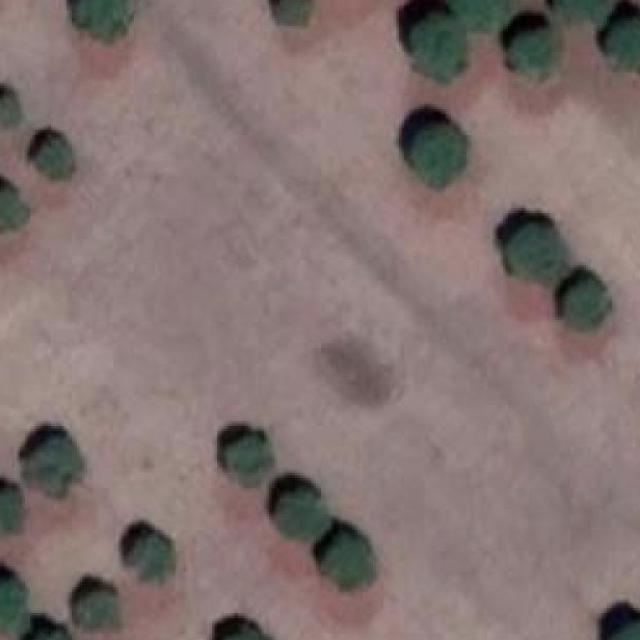Tree: (23, 431, 88, 499), (411, 7, 472, 78), (404, 118, 465, 174), (511, 218, 568, 276), (319, 532, 374, 592), (64, 0, 140, 39), (274, 480, 321, 540), (557, 276, 607, 332), (596, 10, 640, 68), (505, 23, 555, 73), (225, 426, 267, 481), (30, 130, 77, 177), (134, 532, 176, 582), (77, 584, 118, 634), (0, 571, 25, 634), (0, 83, 28, 130), (264, 0, 311, 26), (0, 488, 25, 533), (0, 185, 20, 221), (609, 618, 640, 640), (28, 625, 73, 640), (222, 628, 269, 640)
